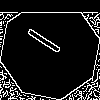I: (25, 25, 71, 62)
